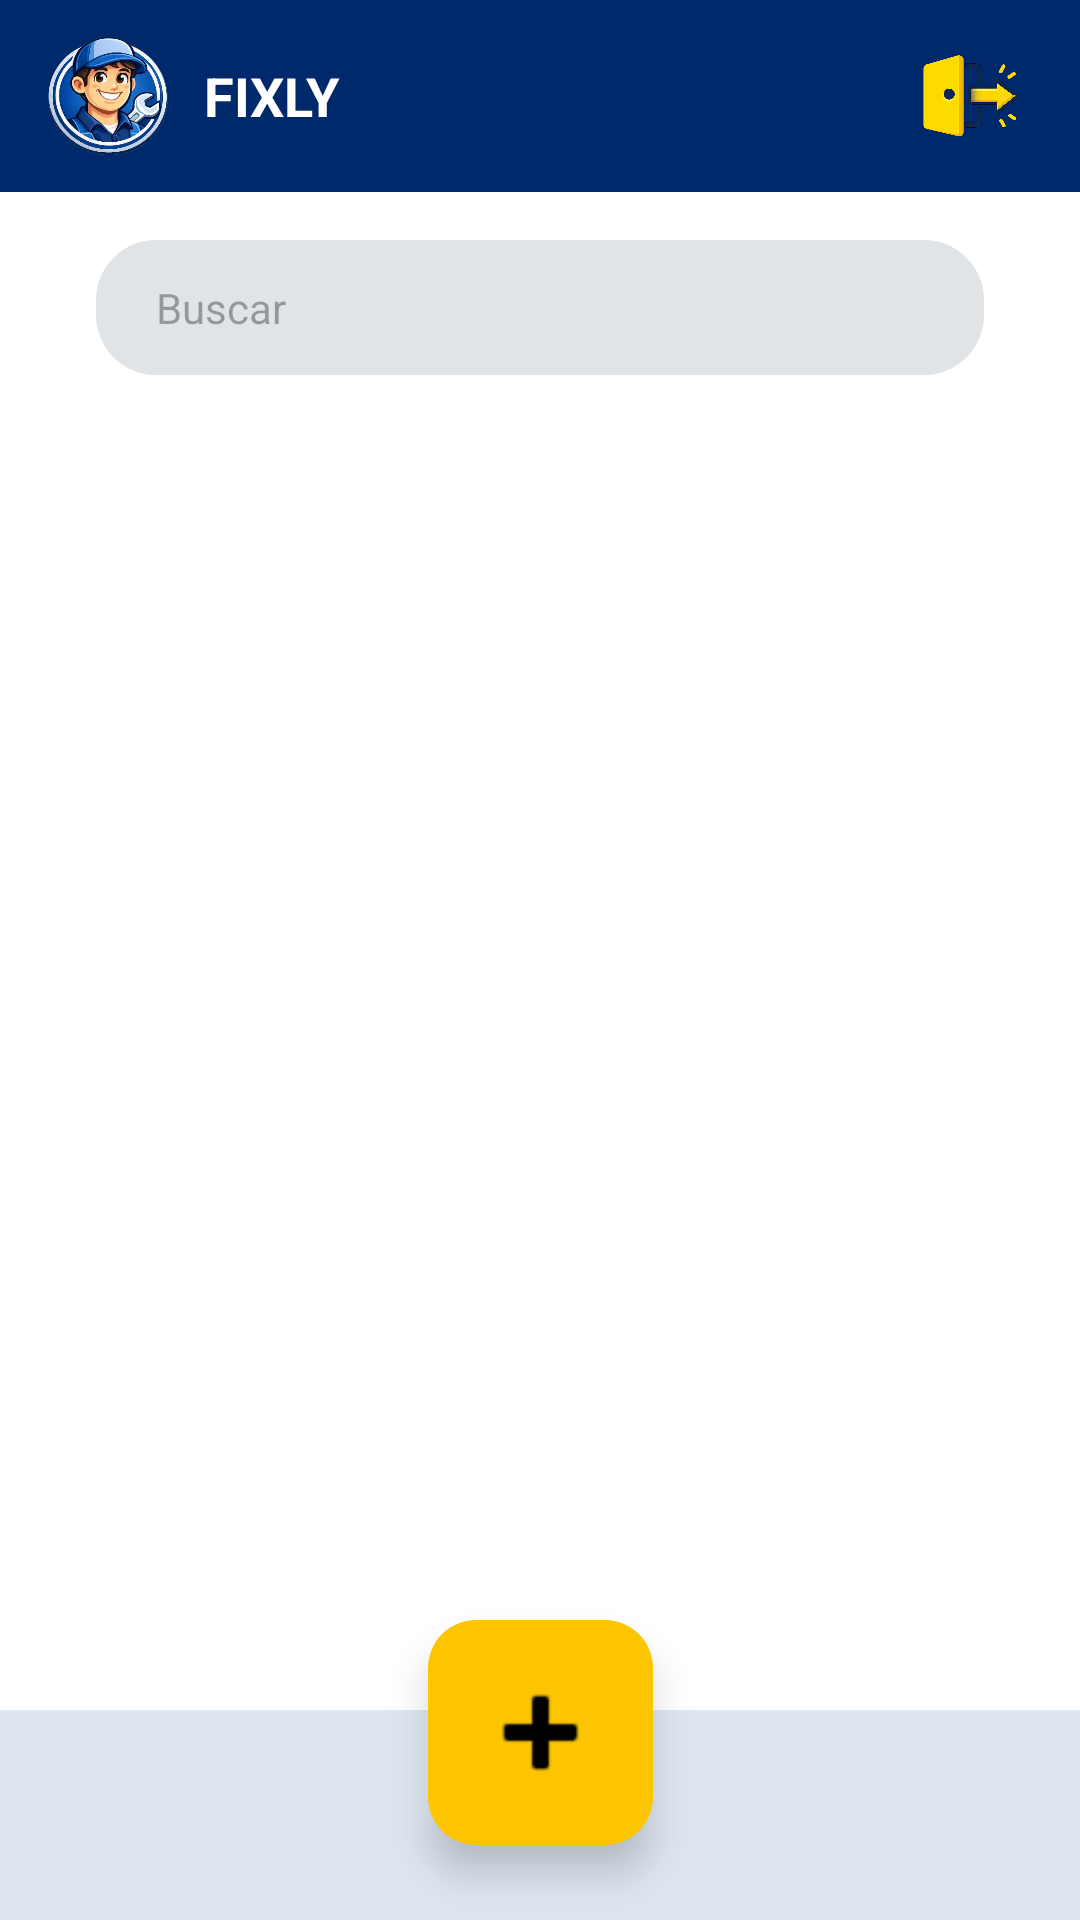

Where to tap for icons on this 1080px×1920px app screen, as [x,y]:
add: [540,1732]
cerrar sesion: [970,95]
